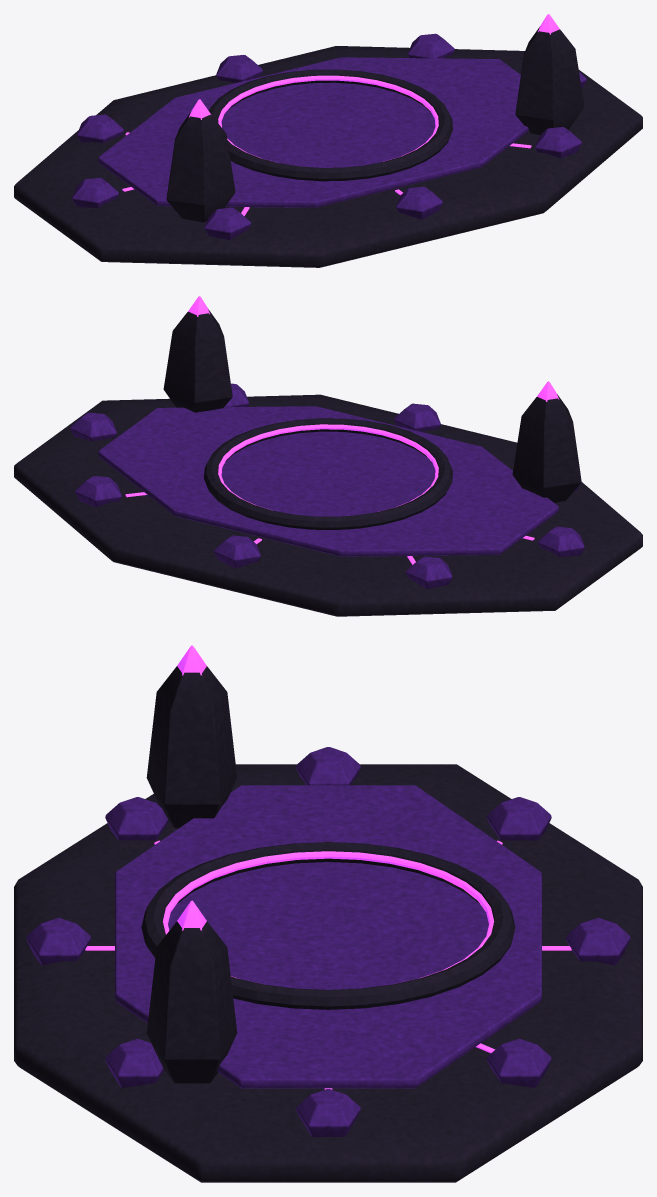
Rendered from conclave_plateforme_d_envol.gltf.
3 renders of one model, top to bottom at view 1: azimuth 30°, elevation 25°; view 2: azimuth 150°, elevation 25°; view 3: azimuth 270°, elevation 25°, orthographic. The views are drawn at different scales.
Parts seen in each view (by area): view 1: Root.013_Geometry; view 2: Root.013_Geometry; view 3: Root.013_Geometry.
Boxes of the visible parts, x1,y1,x2,y2 form: Root.013_Geometry: [14, 14, 642, 267]; Root.013_Geometry: [14, 296, 642, 616]; Root.013_Geometry: [14, 645, 642, 1182].
Bounding box in the file's own units: 5.88 × 1.46 × 3.92.
Materials: 3 (2 with a texture image).
